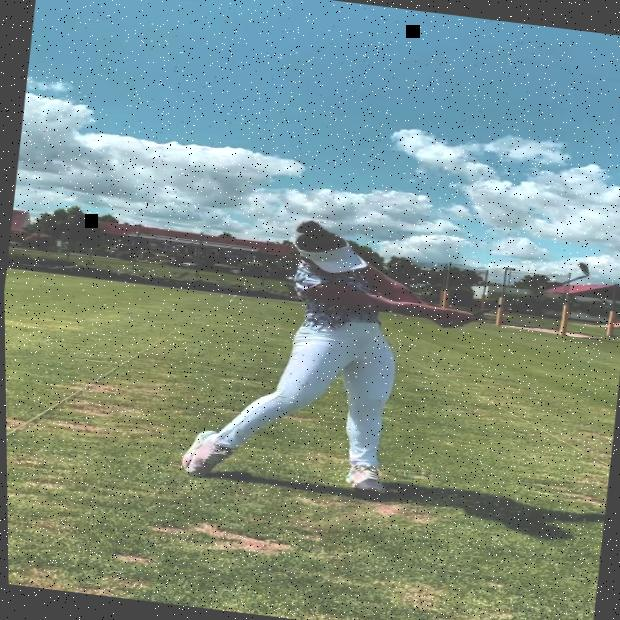ClubHead: (575, 260, 593, 276)
